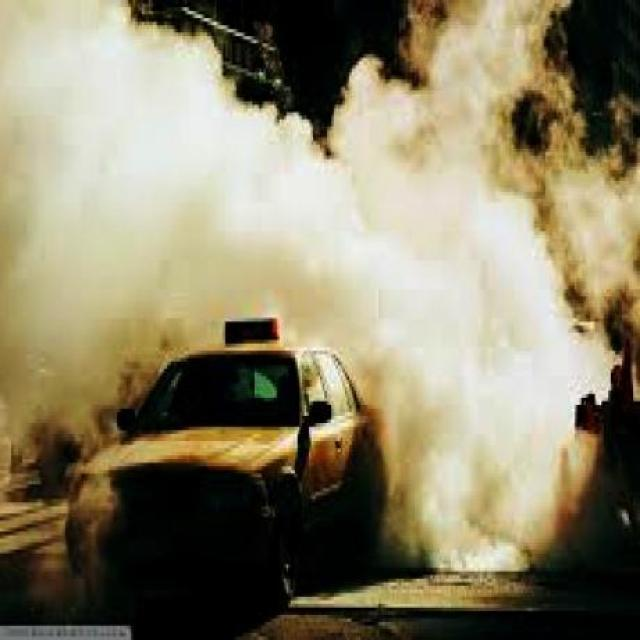Smoke: (328, 0, 618, 532), (0, 1, 313, 328)
